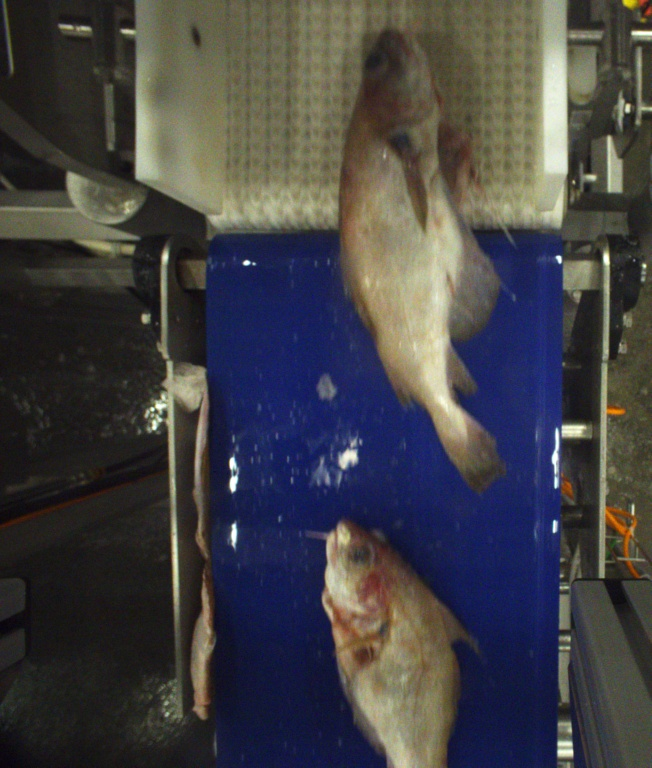BIB: (300, 526, 484, 768)
